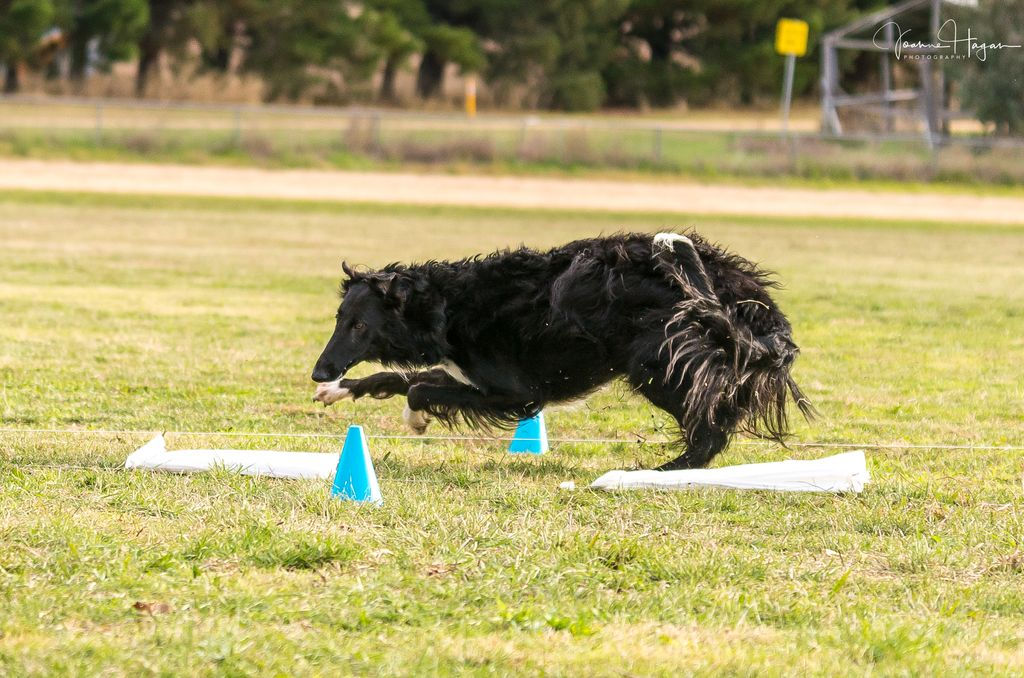borzoi: (267, 215, 818, 472)
